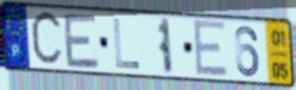1: (156, 16, 175, 77)
6: (234, 24, 262, 79)
C: (29, 8, 65, 70)
E: (61, 12, 102, 71), (191, 17, 230, 79)
L: (112, 17, 142, 71)
